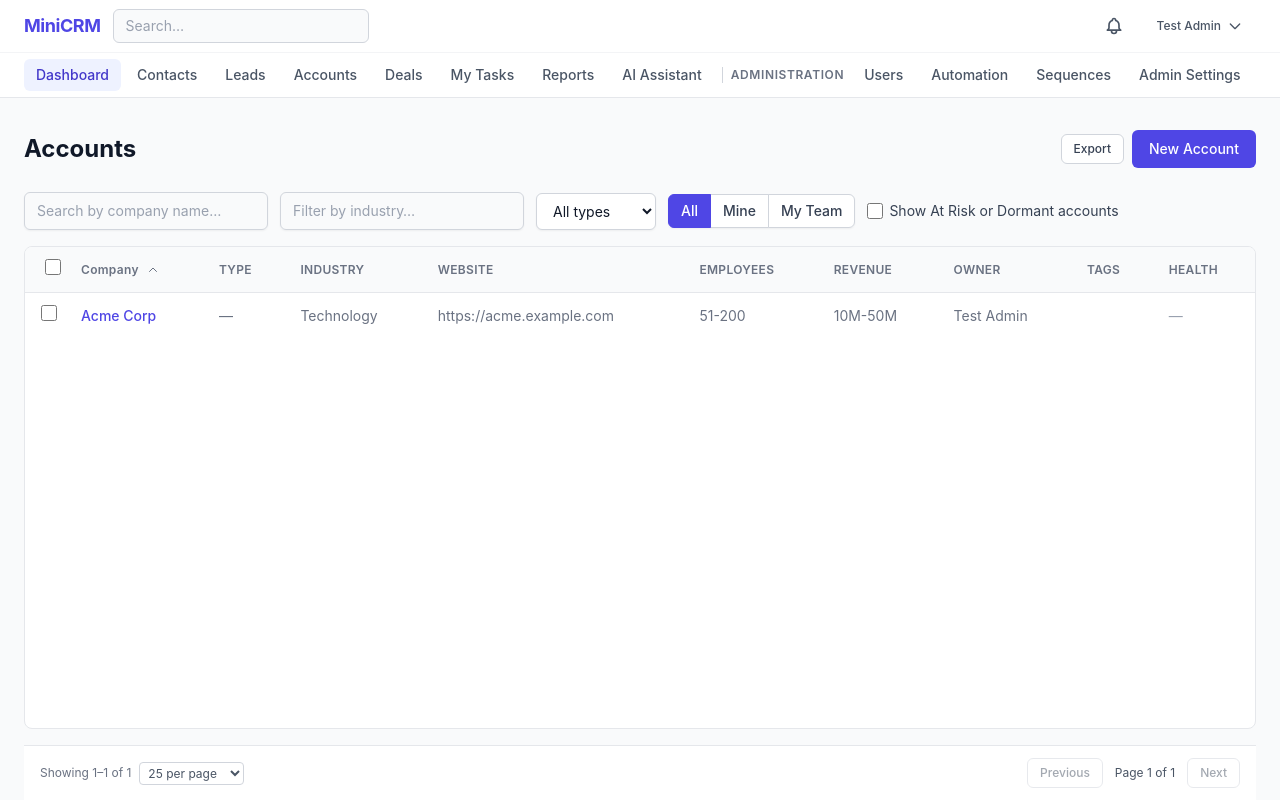
Test: AccountsPage › hides the form when Cancel is clicked
Click the button with test id "new-account-button". click: coordinates (1194, 149)
box: 1132,130 -> 1256,168
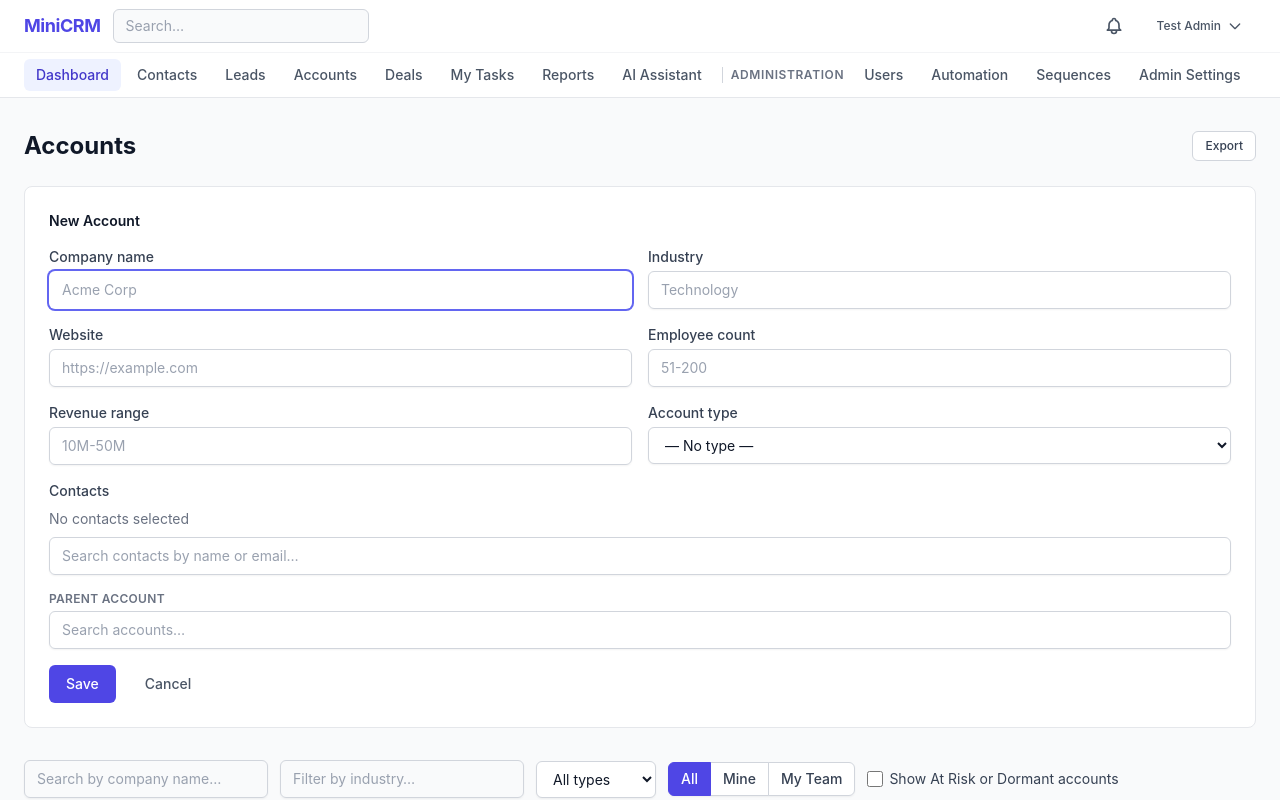
Expected: the form with test id "account-form" is shown, 49,247 -> 1231,703
Click the button with test id "account-form-cancel". click: coordinates (168, 684)
box: 128,665 -> 208,703
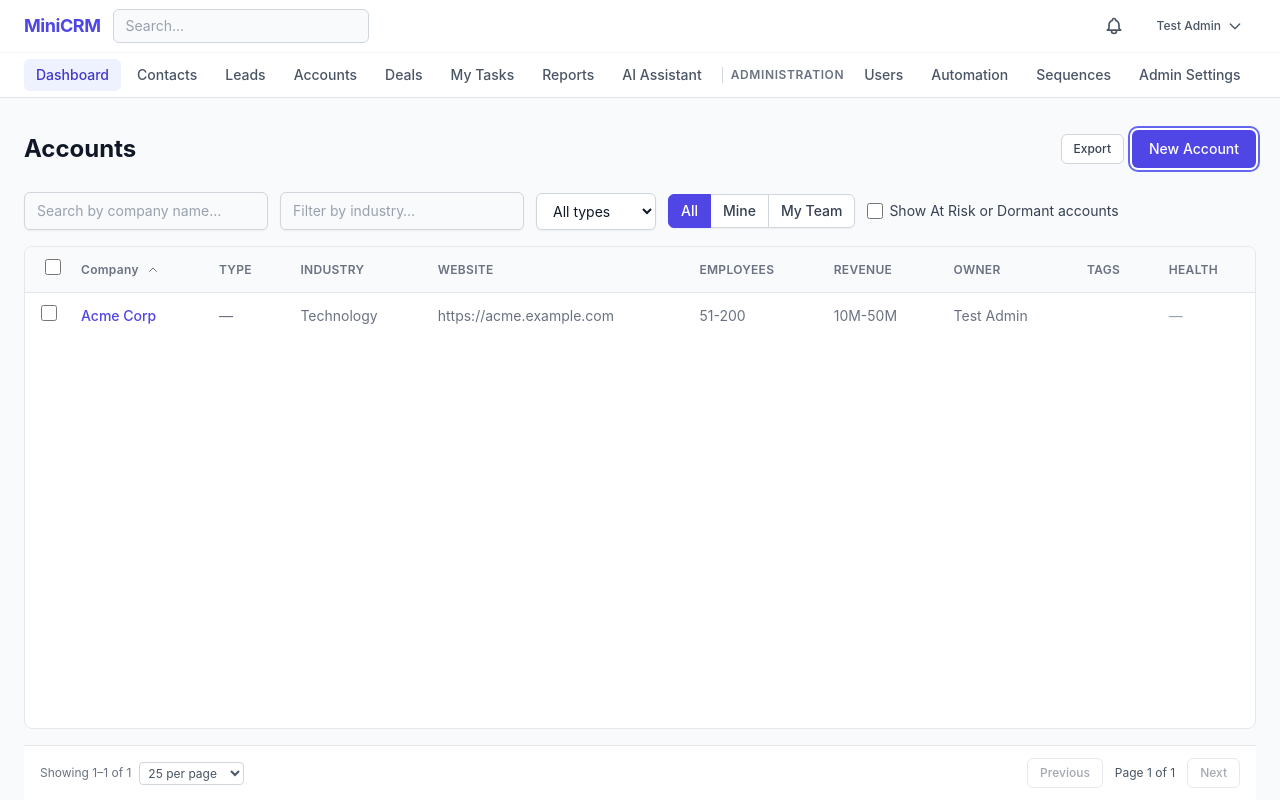
Expected: the form with test id "account-form" is gone
